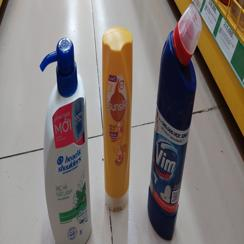h_s: (35, 36, 95, 244)
sunsilk yellow: (99, 24, 135, 212)
vim blue: (146, 4, 204, 244)
